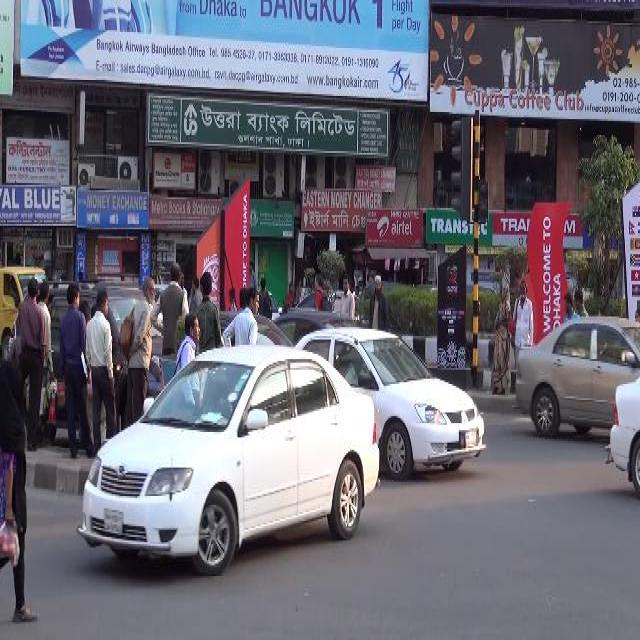car: (74, 336, 382, 585), (291, 324, 493, 484), (508, 311, 636, 446)
